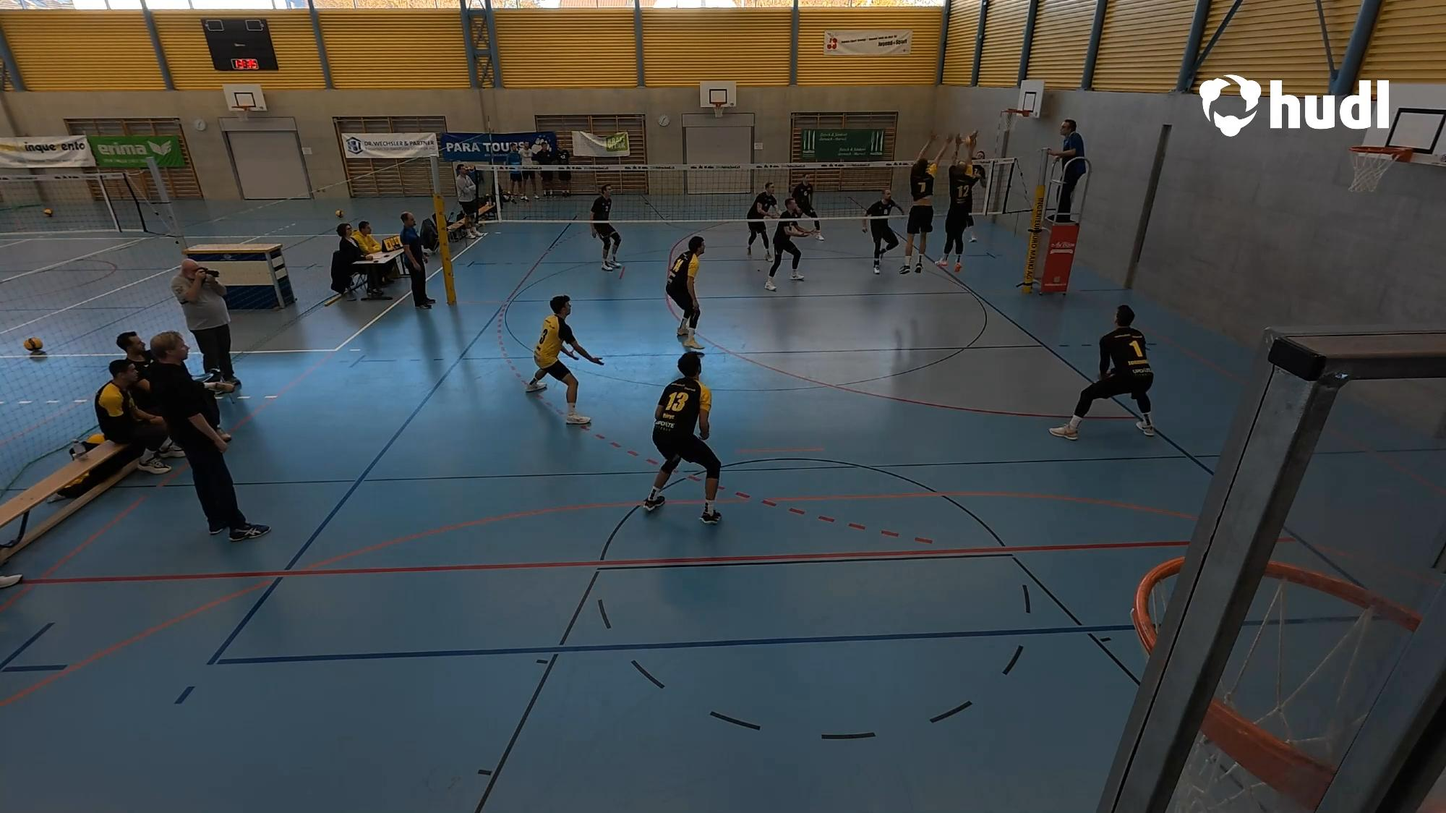attacco: (963, 131, 988, 244)
muro: (902, 131, 946, 273), (944, 133, 985, 260)
